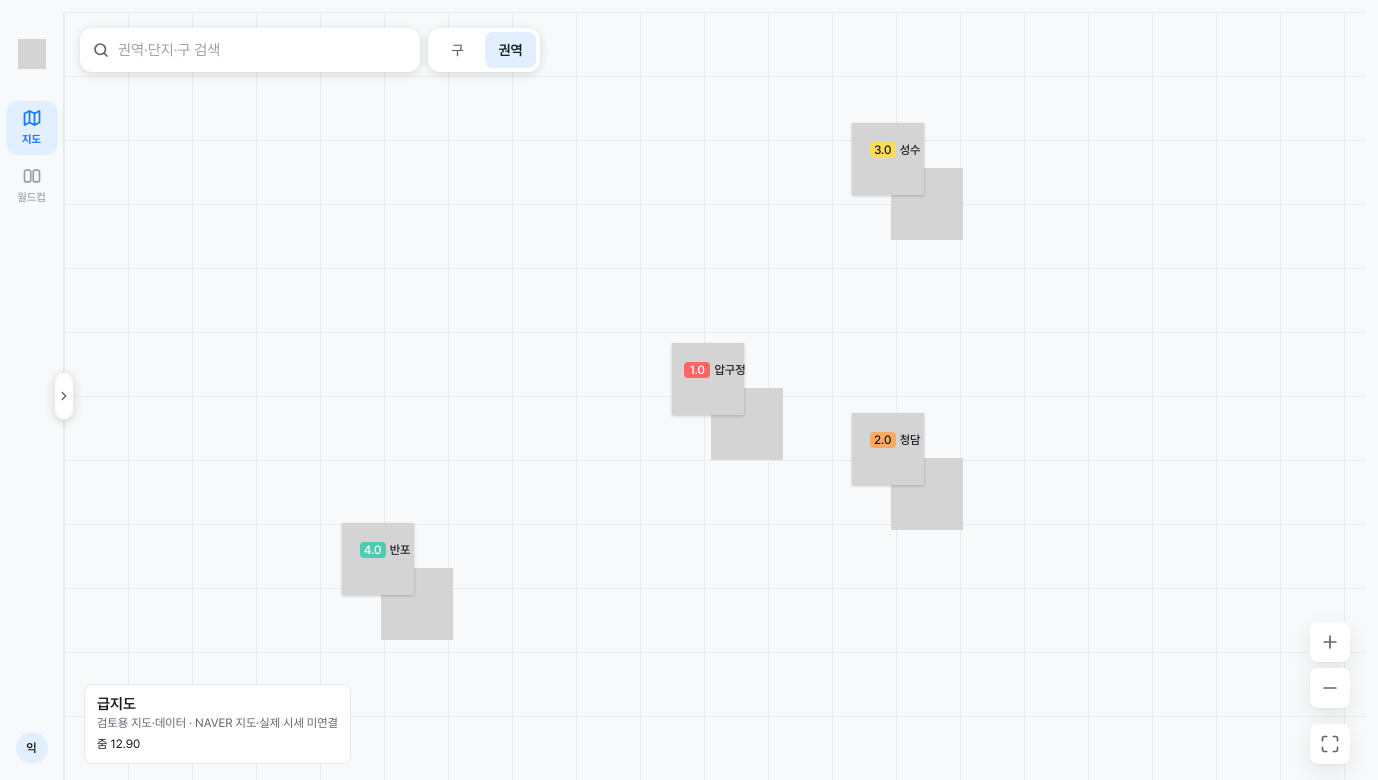
it: rejects a detail response for a different zone without replacing the current selection
Click the button with aria-label "권역 압구정": point(715, 370) [672,343,758,396]
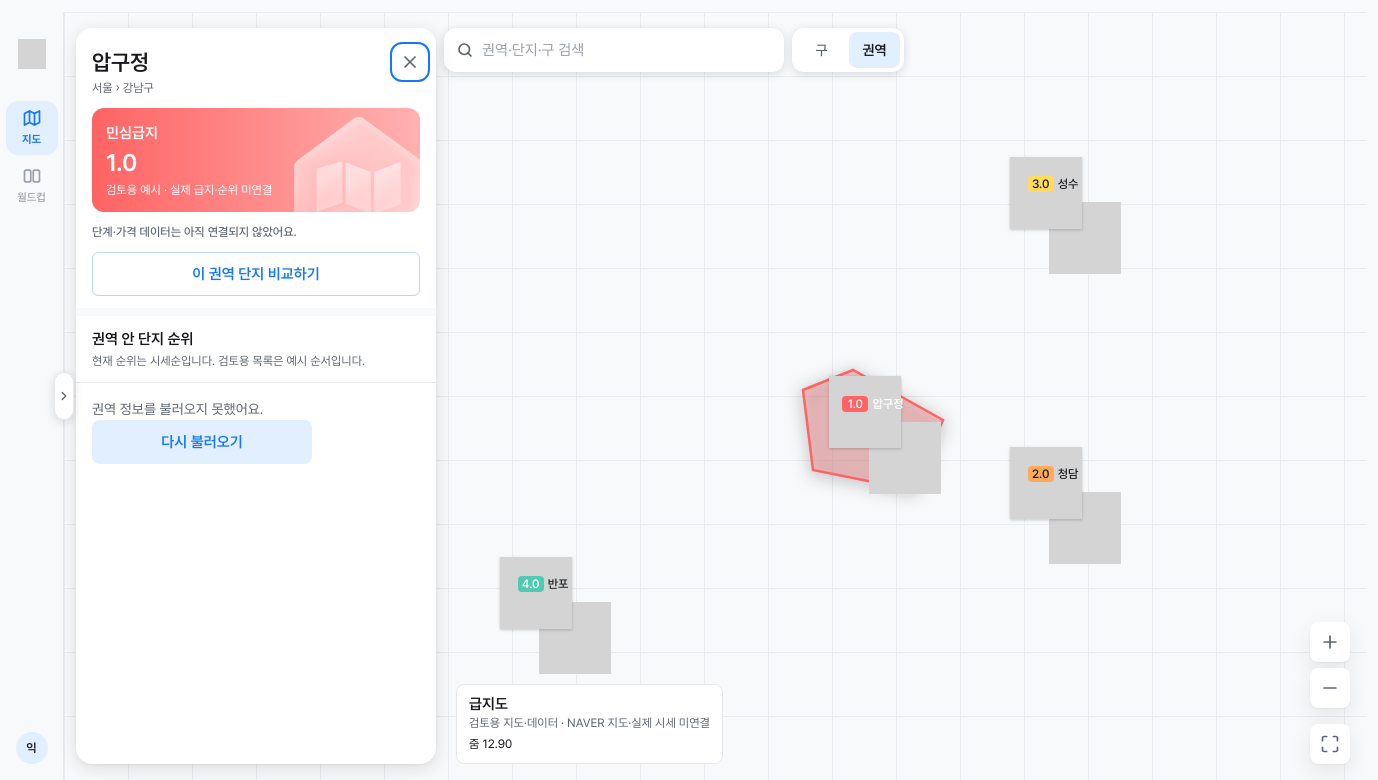
expect the text "권역 정보를 불러오지 못했어요." is shown: met, box [92,401,263,417]
expect the heading "압구정" is shown: met, box [92,49,149,75]
